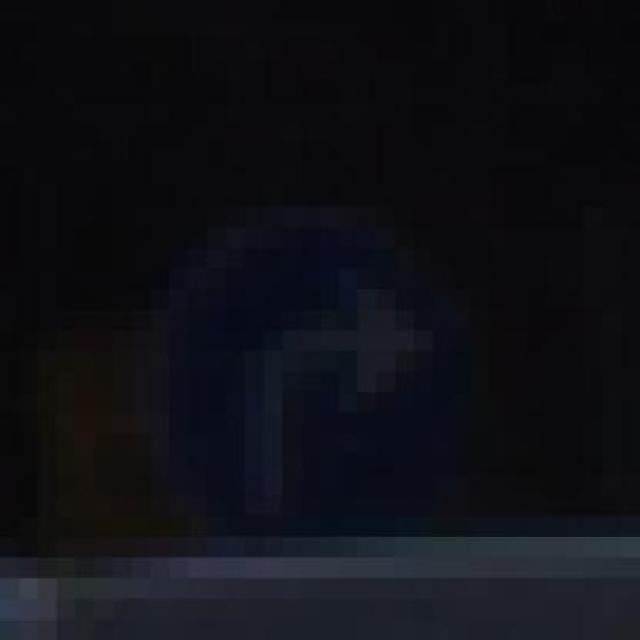Turn right ahead: (94, 144, 546, 598)
